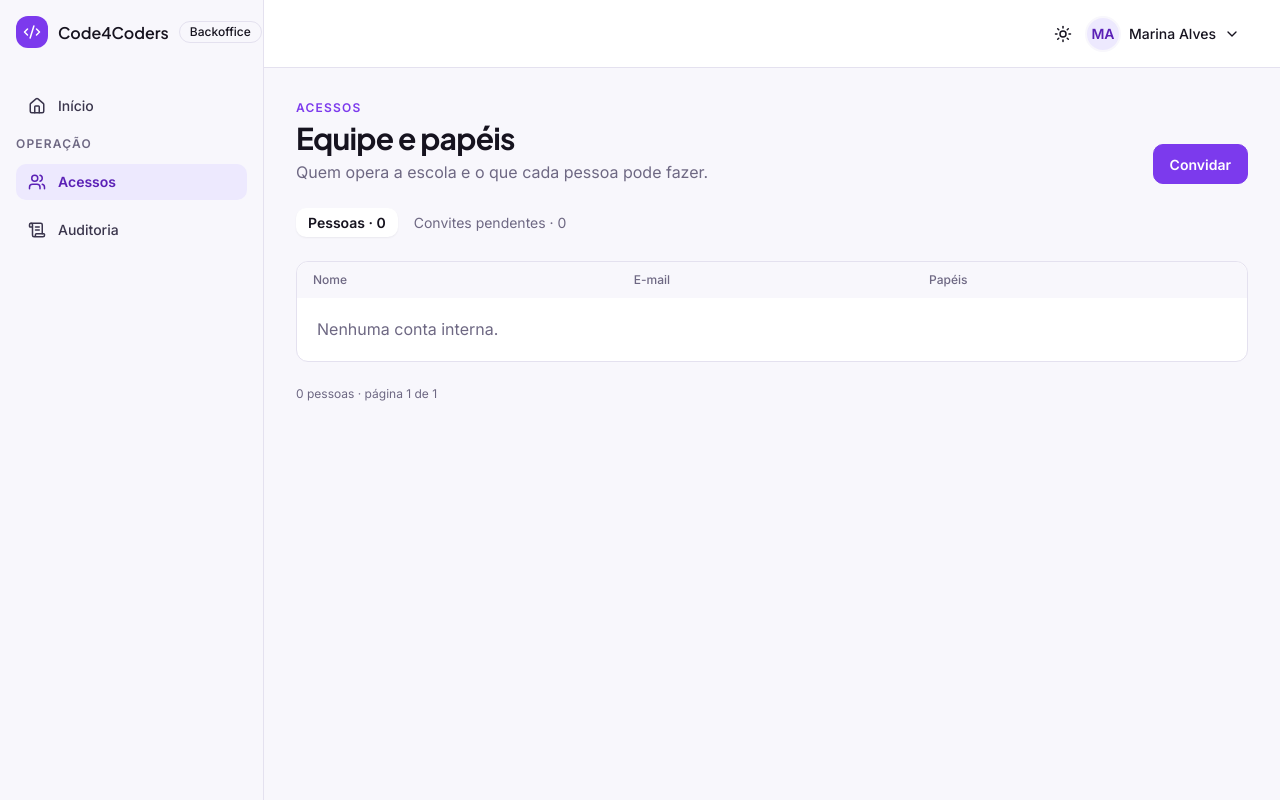
Test: StaffInvitationIssuing › submits an invitation and shows the pending invitation area
The image size is (1280, 800).
Click the button "Convidar".
click(1200, 164)  # box [1153,144,1248,184]
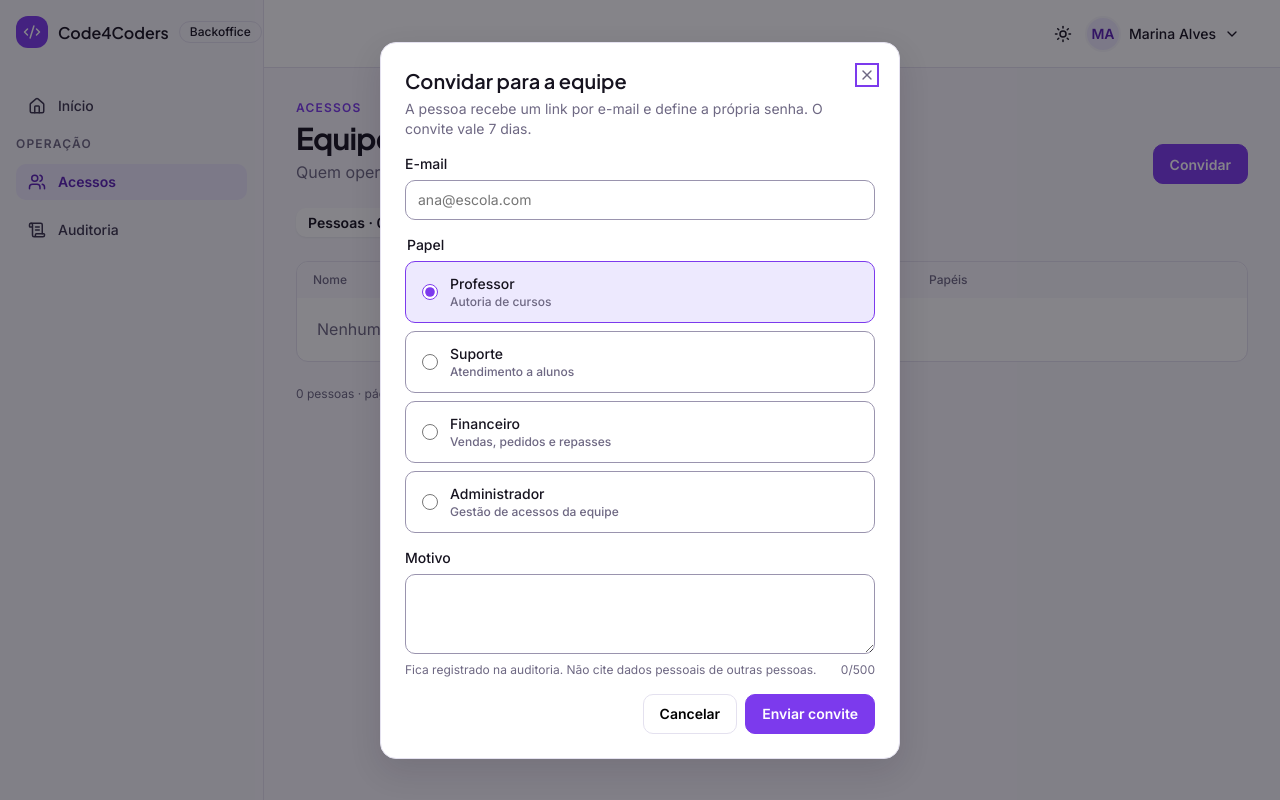
Type "convidada@example.com" into the field labelled "E-mail".
click(640, 200); type("convidada@example.com")  # box [405,180,875,220]
Click the radio button labelled "Suporte Atendimento a alunos".
click(430, 362)  # box [422,354,438,370]
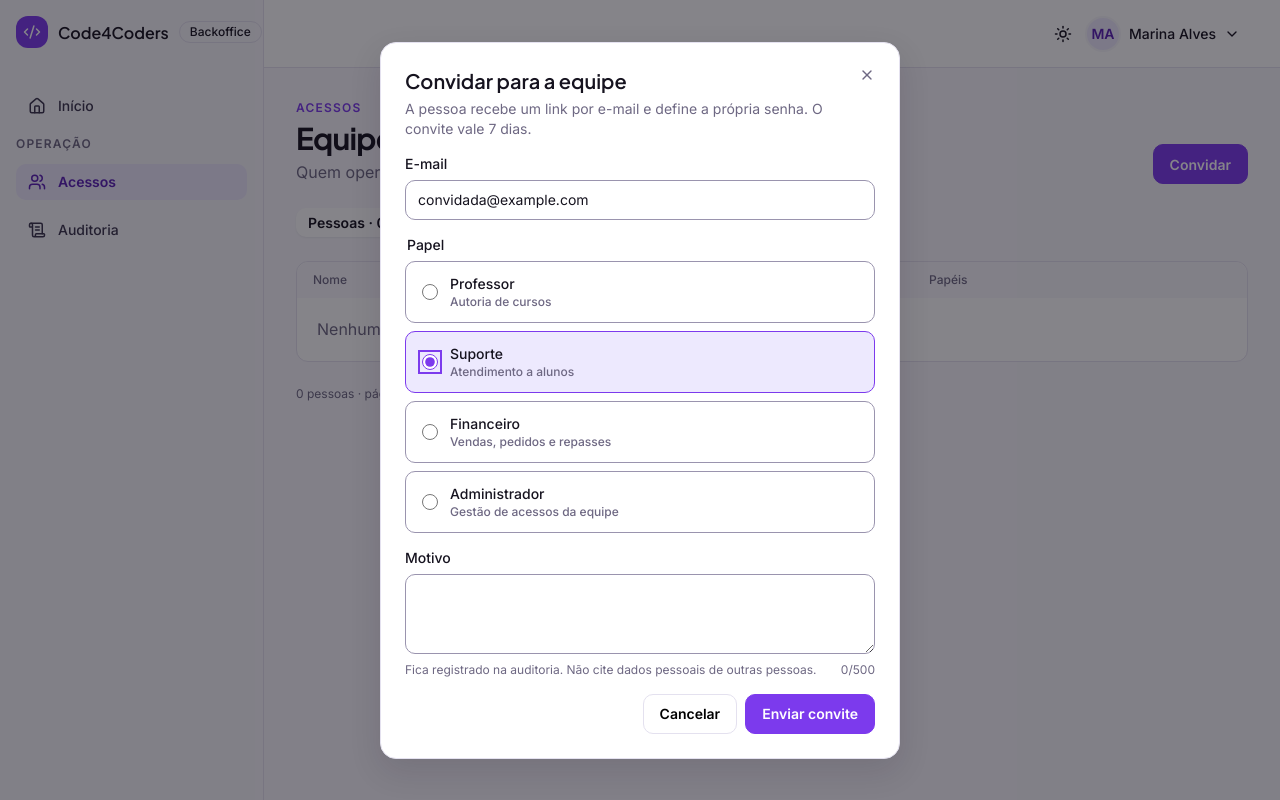
Type "Vai atuar no suporte interno." into the text box labelled "Motivo".
click(640, 614); type("Vai atuar no suporte interno.")  # box [405,574,875,654]
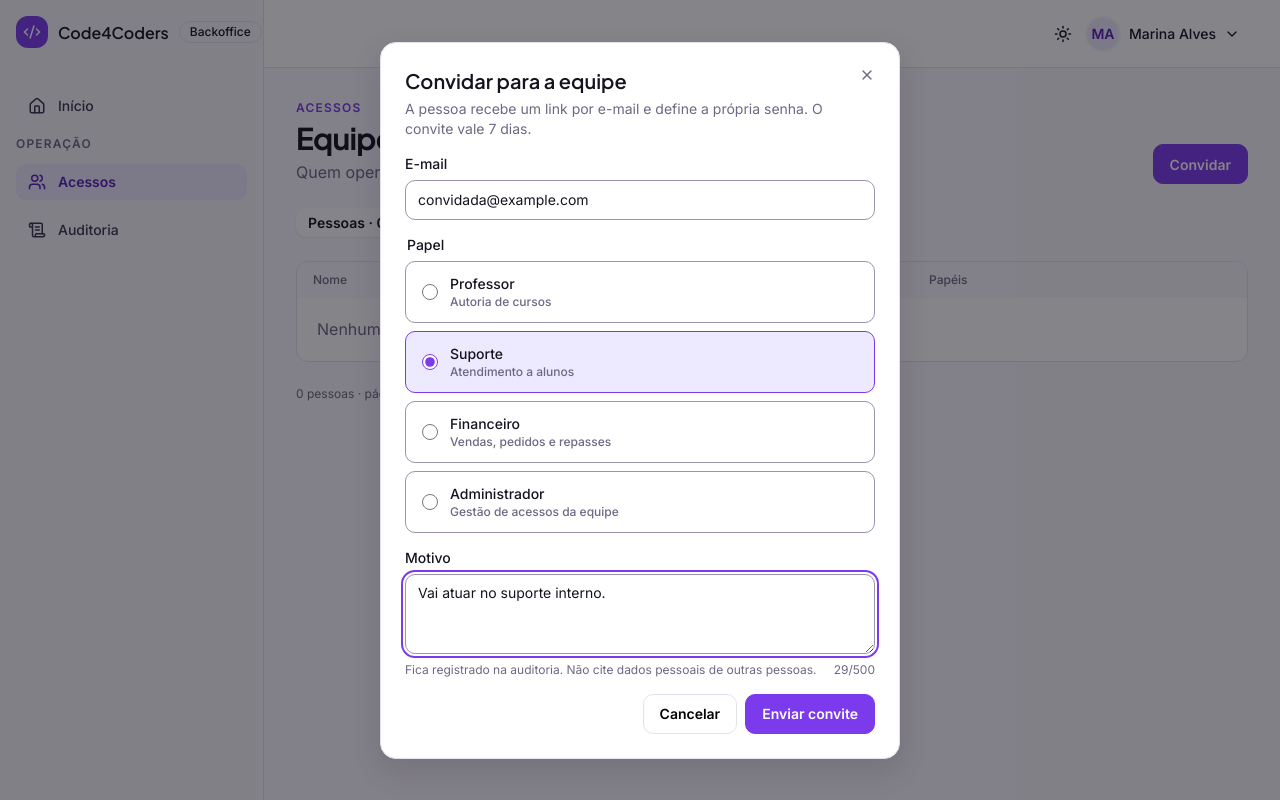
Click the button "Enviar convite".
click(810, 714)  # box [745,694,875,734]
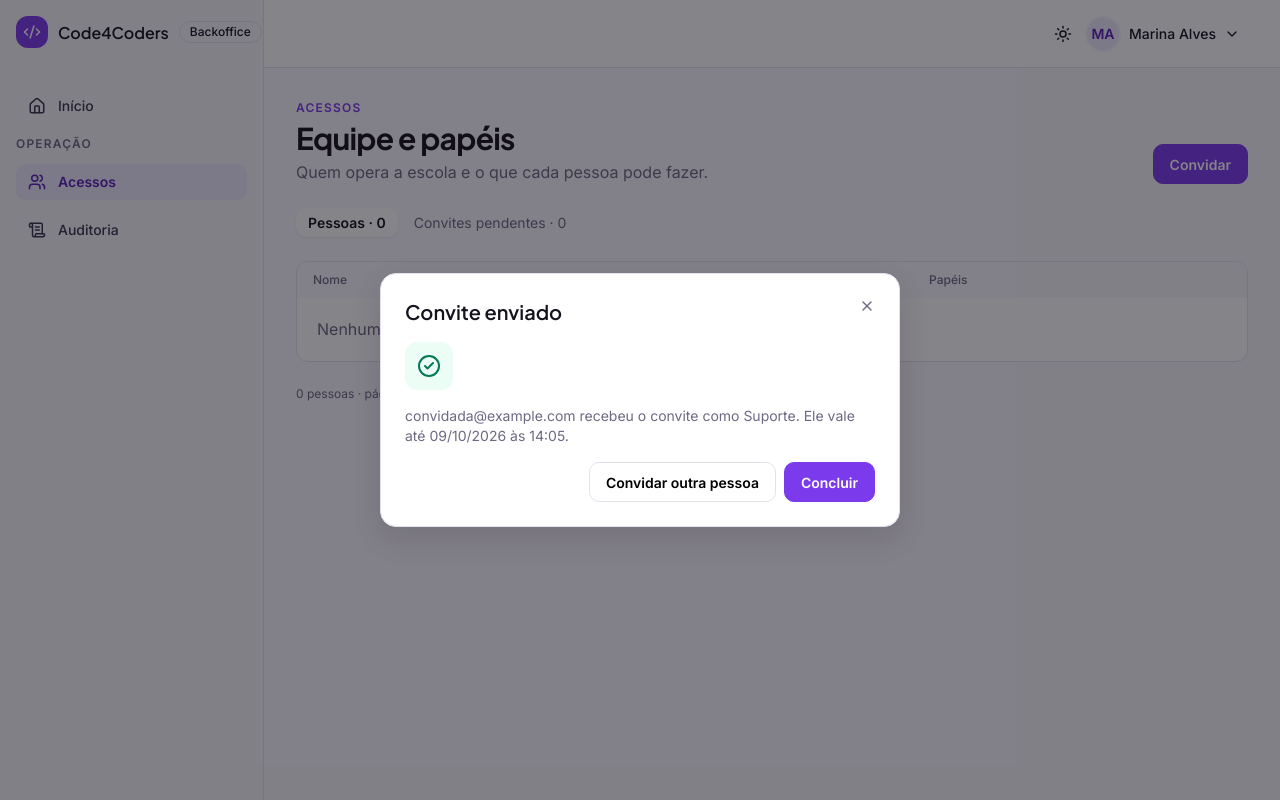
Now the heading "Convite enviado" is shown, box [405,299,562,324]
Now the button "Convidar outra pessoa" is shown, box [589,462,776,502]
Click the button "Concluir".
click(830, 482)  # box [784,462,875,502]
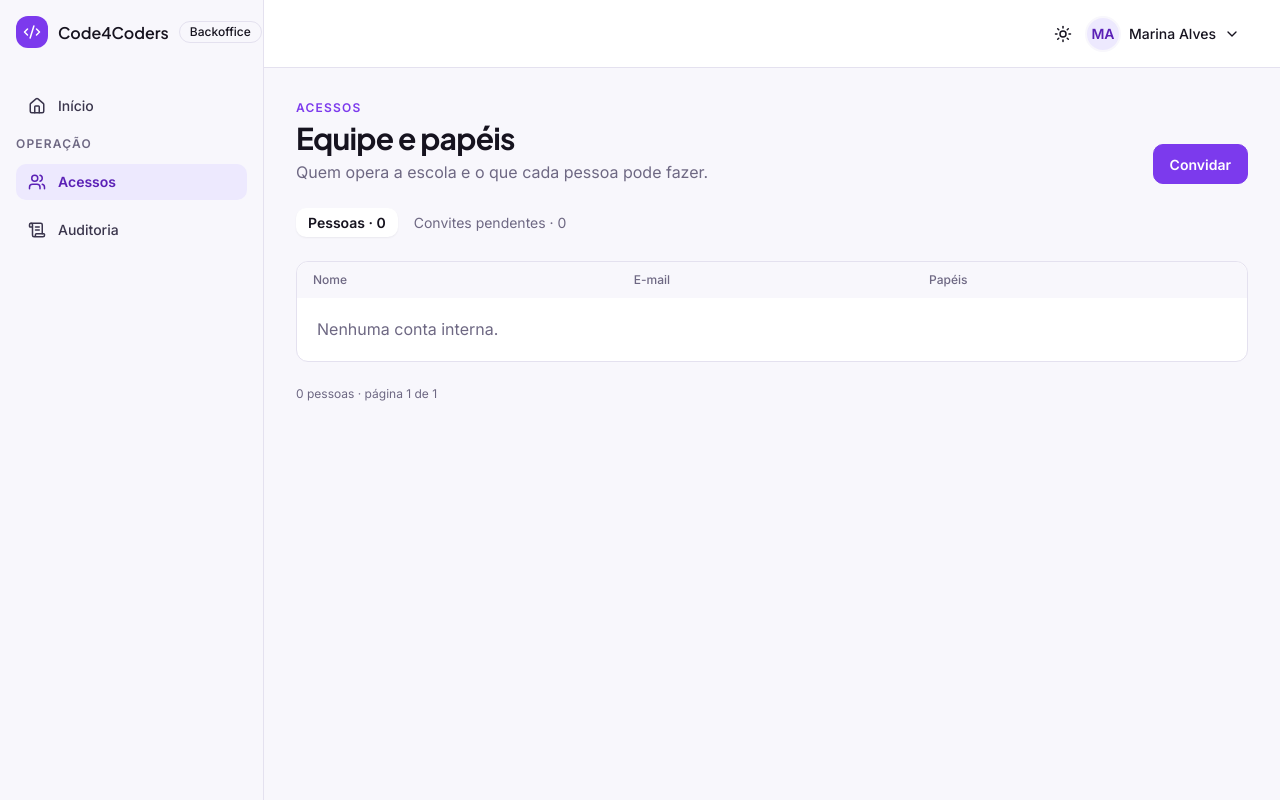
Click the tab "Convites pendentes · 0".
click(490, 222)  # box [402,208,578,237]
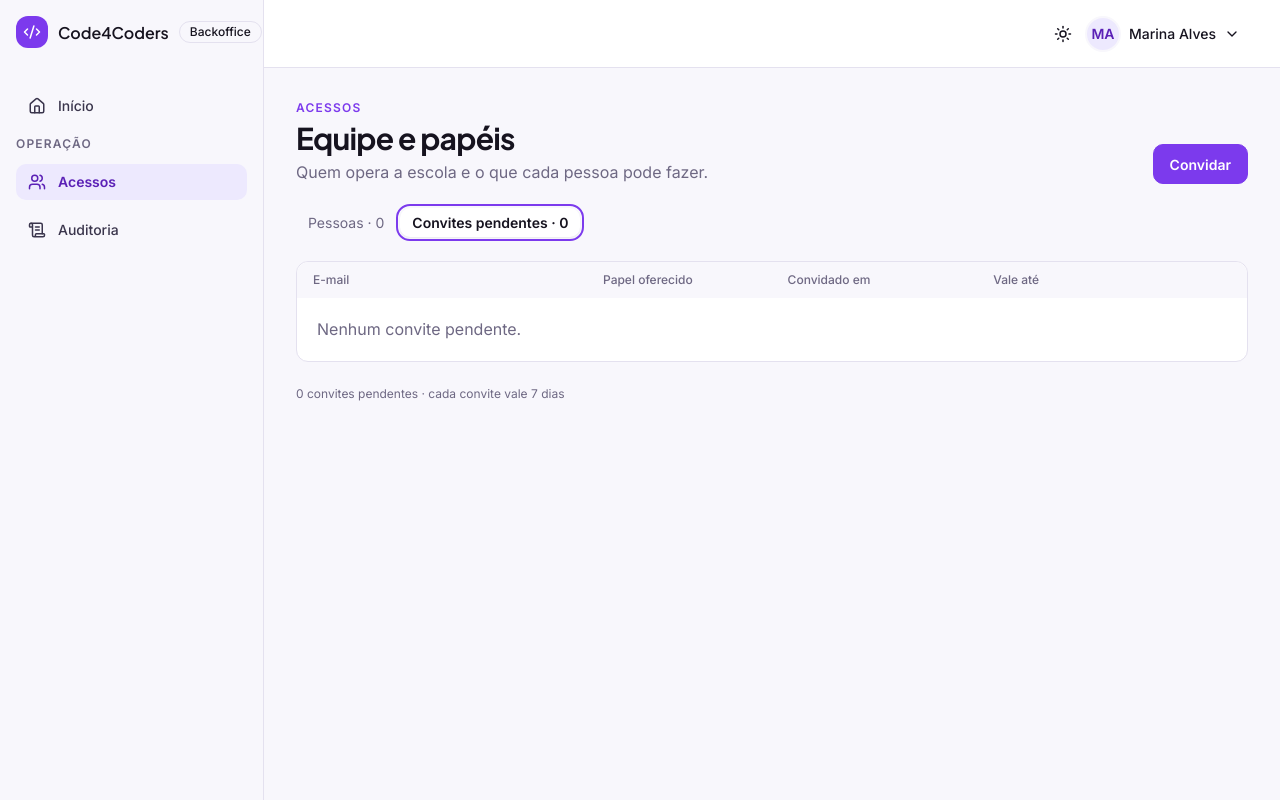
Now the text "Nenhum convite pendente." is shown, box [317,319,521,339]
